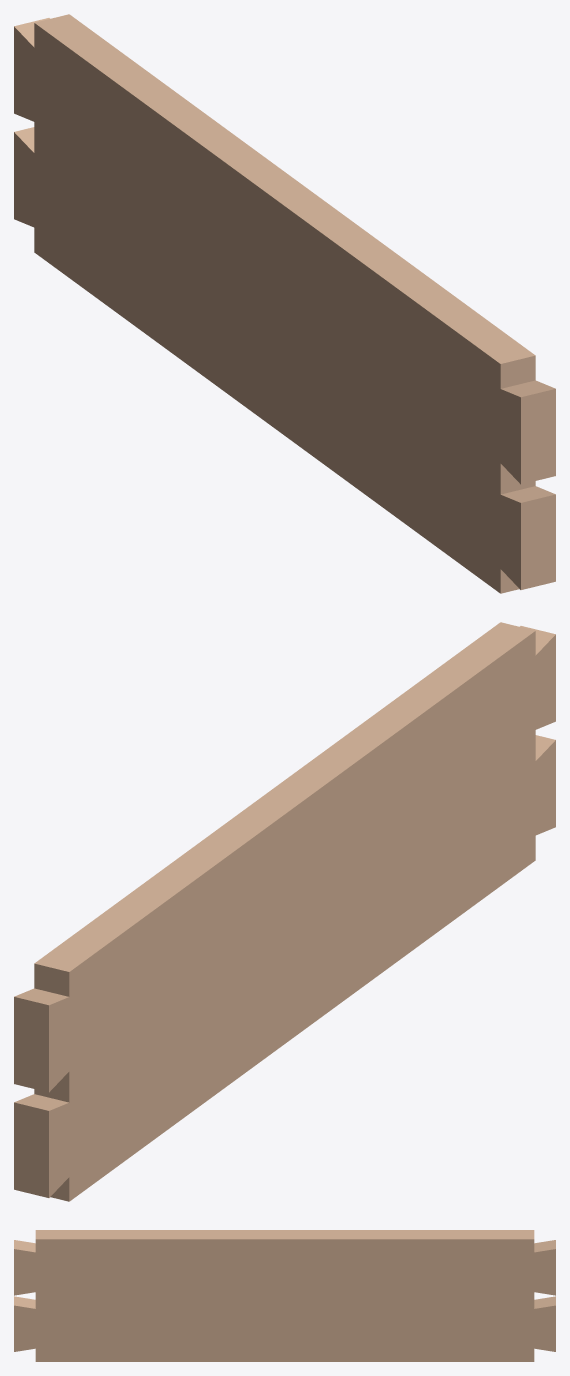
File: original-20.obj
3 renders of one model, top to bottom at view 1: azimuth 30°, elevation 25°; view 2: azimuth 150°, elevation 25°; view 3: azimuth 270°, elevation 25°, orthographic. The views are drawn at different scales.
Parts seen in each view (by area): view 1: Group20/mesh25/mesh25-geometry#mesh25-geometry; view 2: Group20/mesh25/mesh25-geometry#mesh25-geometry; view 3: Group20/mesh25/mesh25-geometry#mesh25-geometry.
Boxes of the visible parts, box(x1,y1,x2,y2) form: Group20/mesh25/mesh25-geometry#mesh25-geometry: box(14, 14, 555, 593); Group20/mesh25/mesh25-geometry#mesh25-geometry: box(14, 622, 555, 1201); Group20/mesh25/mesh25-geometry#mesh25-geometry: box(14, 1230, 555, 1361).
Size of the model in its own units: 0.00985 by 0.0616 by 0.2462.
